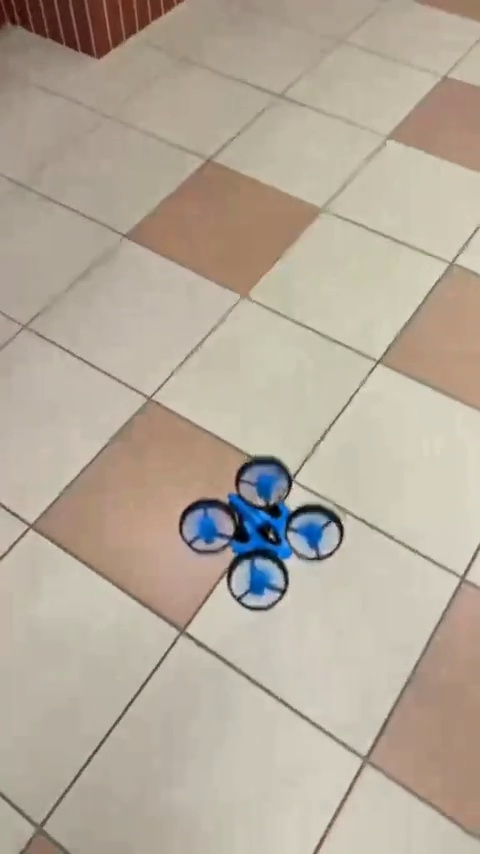drone: (167, 458, 352, 620)
